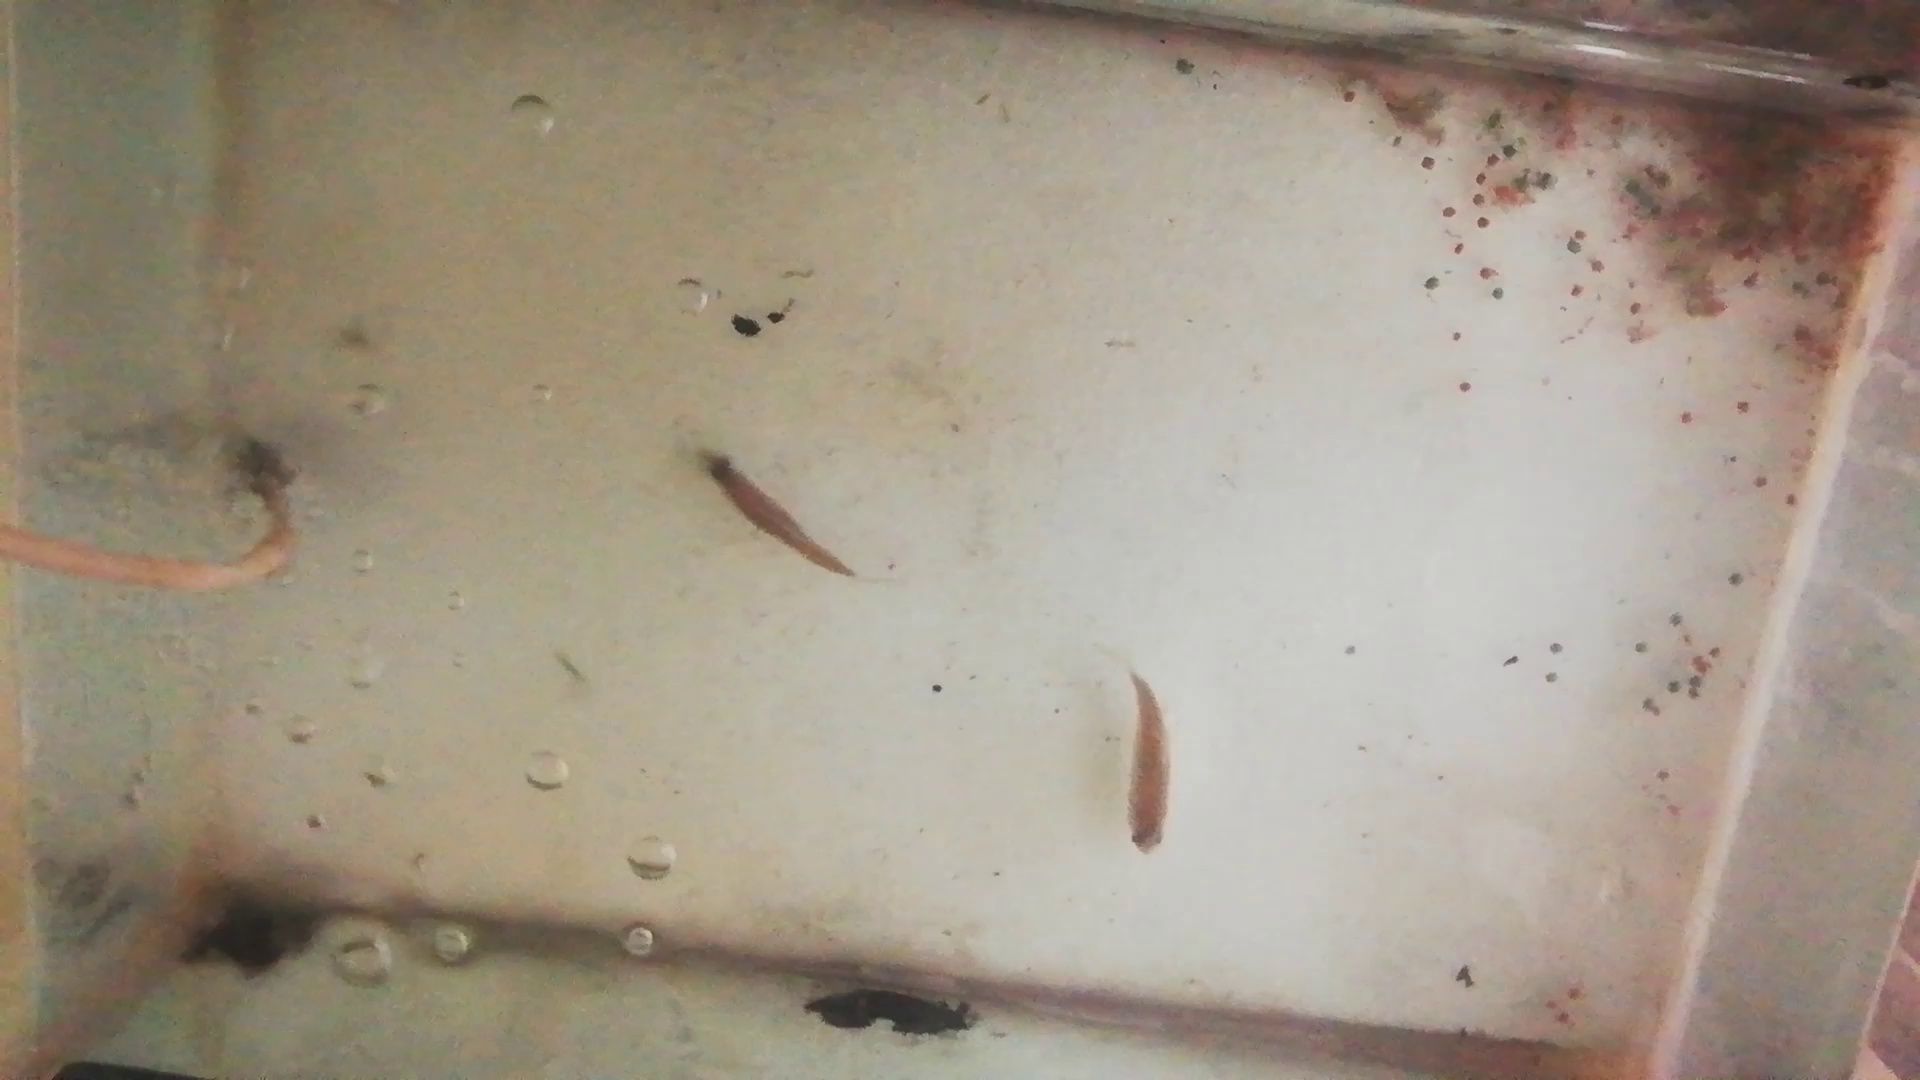fish: (694, 454, 855, 580), (1124, 673, 1176, 858)
